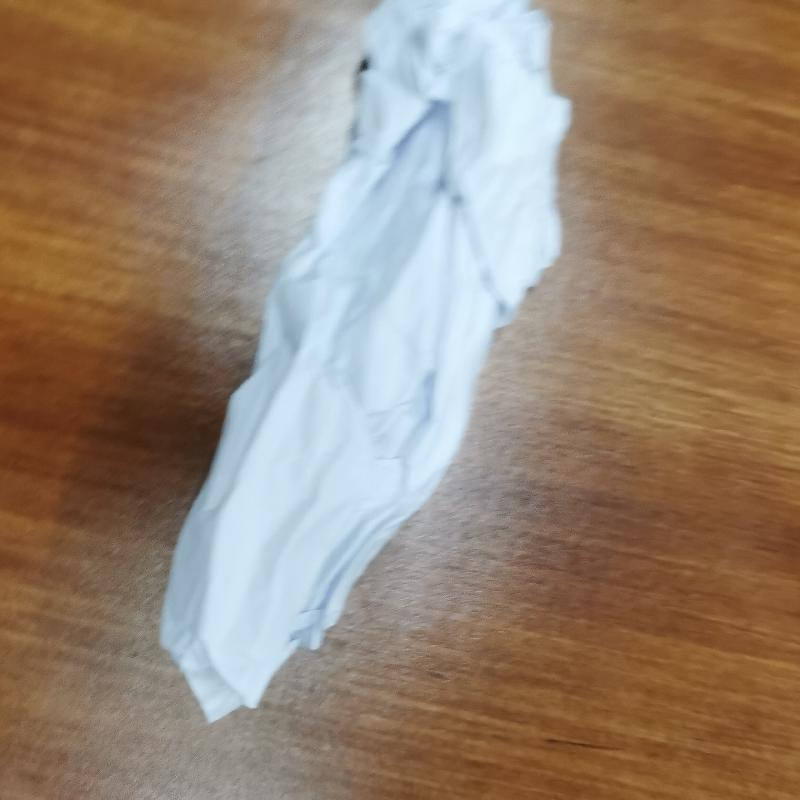spitball: (145, 5, 578, 723)
